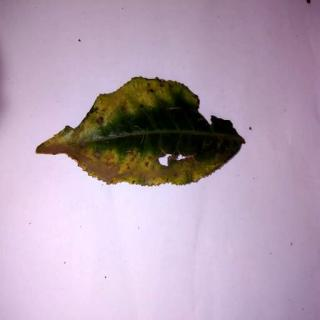Anthracnose: (35, 75, 251, 188)
